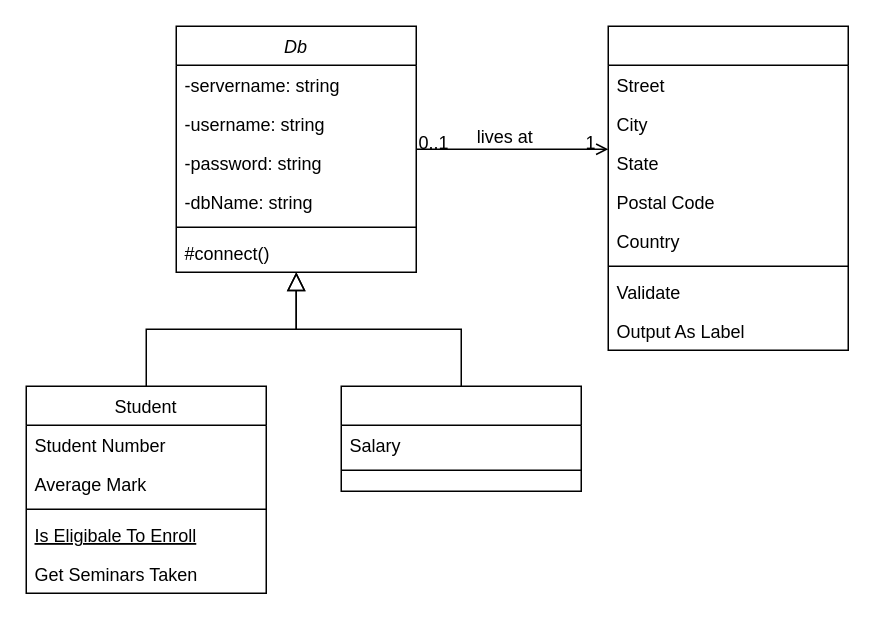
Image size: 875x624. Some labels were removed from this diagram. The shapes that lost their labels are listed below. From the top down, each one's box as (x1, y1, x2, y2) in pixels, then its label:
(607, 25, 848, 350): Address
(340, 385, 581, 491): Professor
